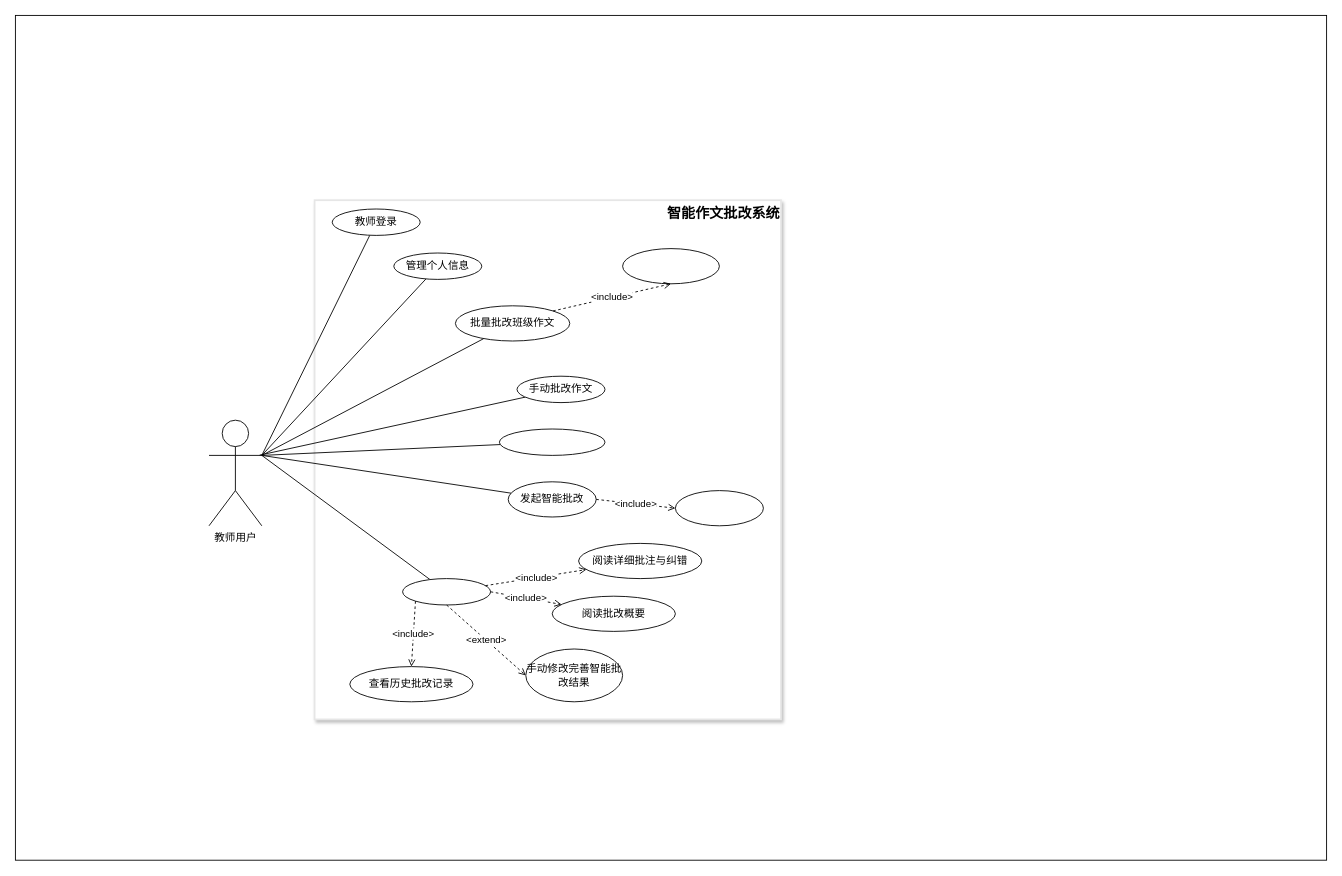
Some shapes in this 1342 by 876 pixel diagram are drawn without their labels. Each missing label, with the centre of its shape:
"查看作文详情" belongs at (x=552, y=441).
"查看批量批改进度" belongs at (x=670, y=266).
"查看智能批改结果" belongs at (x=446, y=591).
"设置评分细则" belongs at (x=719, y=508).
